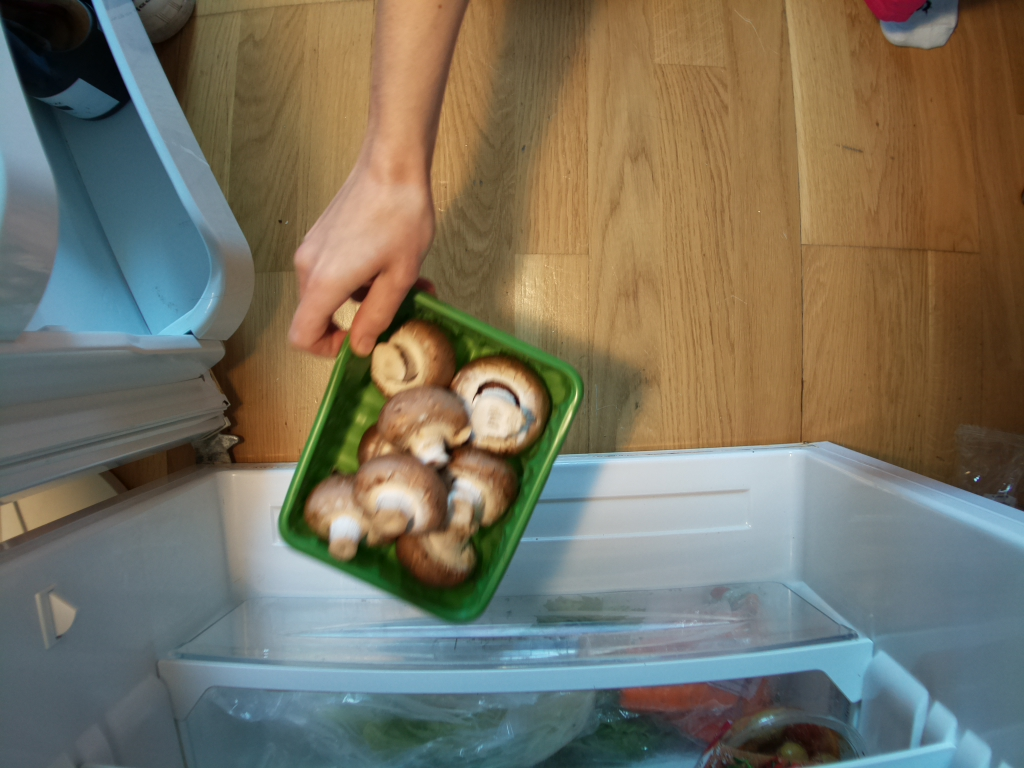mushrooms: (266, 281, 590, 621)
